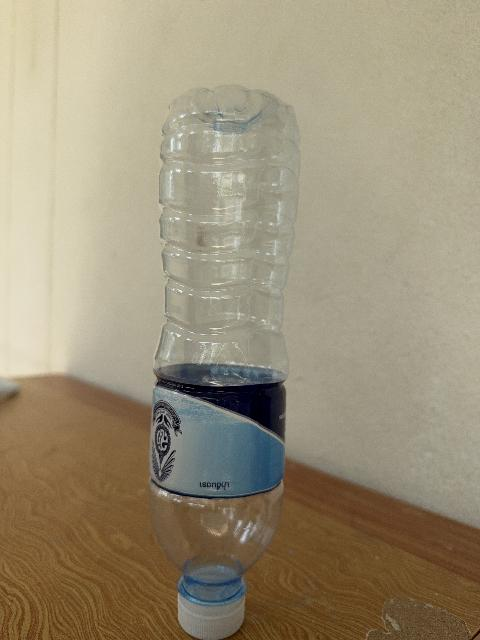bottle: (149, 86, 299, 639)
